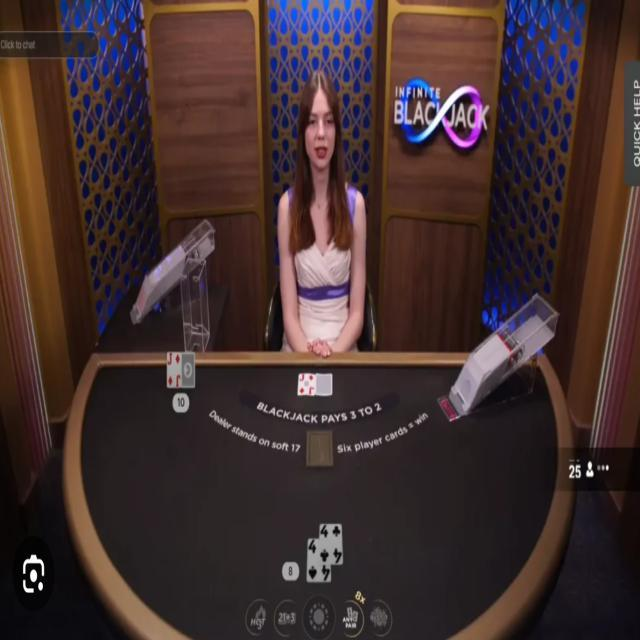Card-4: (306, 539, 331, 582), (319, 523, 343, 564)
Card-J: (297, 374, 315, 395)
